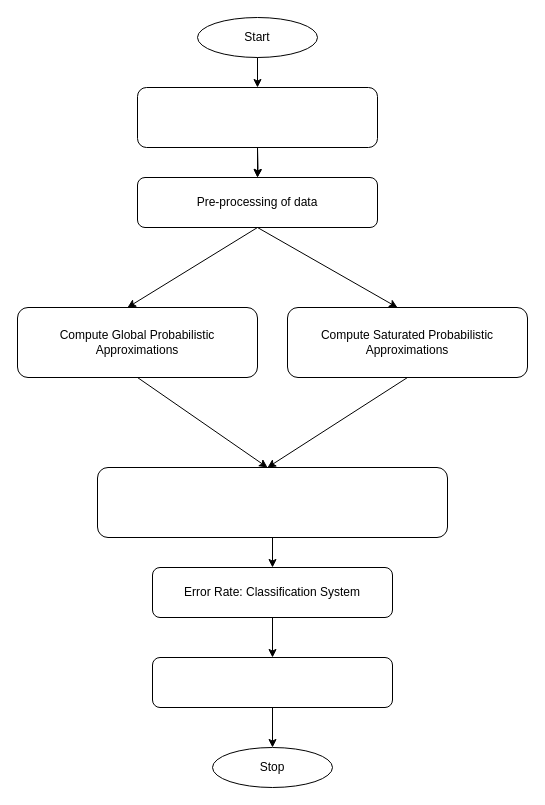
Some shapes in this 545 by 805 pixel diagram are drawn without their labels. The shapes that lost their labels are listed below. From the top down, each one's centre as x and y in pixels, then its label:
the point at 257,117: Input: 1. Parameter beta 2. Input data set
the point at 272,502: Rule Induction: MLEM2 version of single local probabilistic approximation
the point at 272,682: Validate: ten-fold cross-validation
